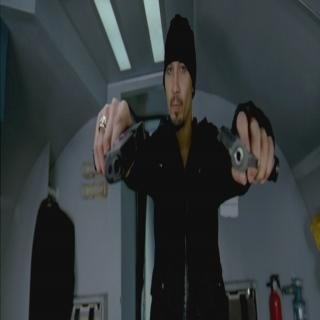gun: (217, 114, 282, 188), (93, 116, 147, 188)
